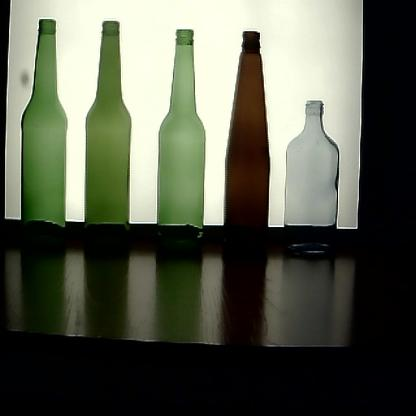Can: (151, 26, 210, 264), (220, 30, 274, 276), (80, 18, 134, 258), (17, 14, 70, 255), (280, 98, 345, 270)
